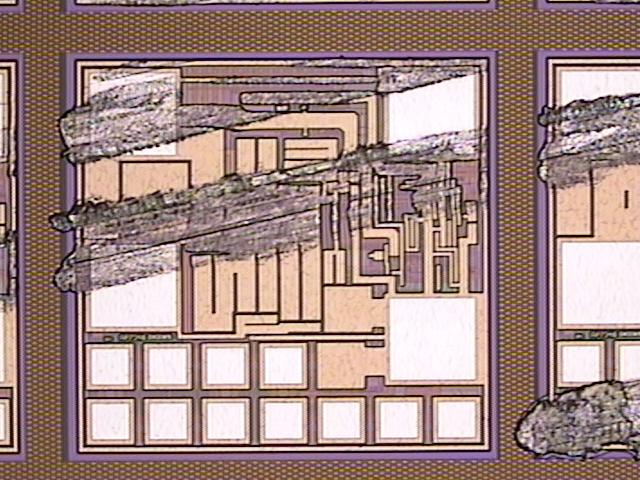SCRATCH: (1, 52, 640, 468)
